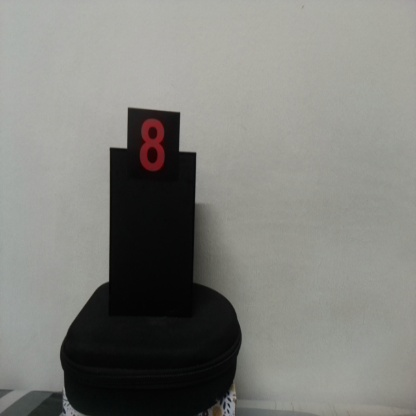id_8: (128, 108, 179, 200)
